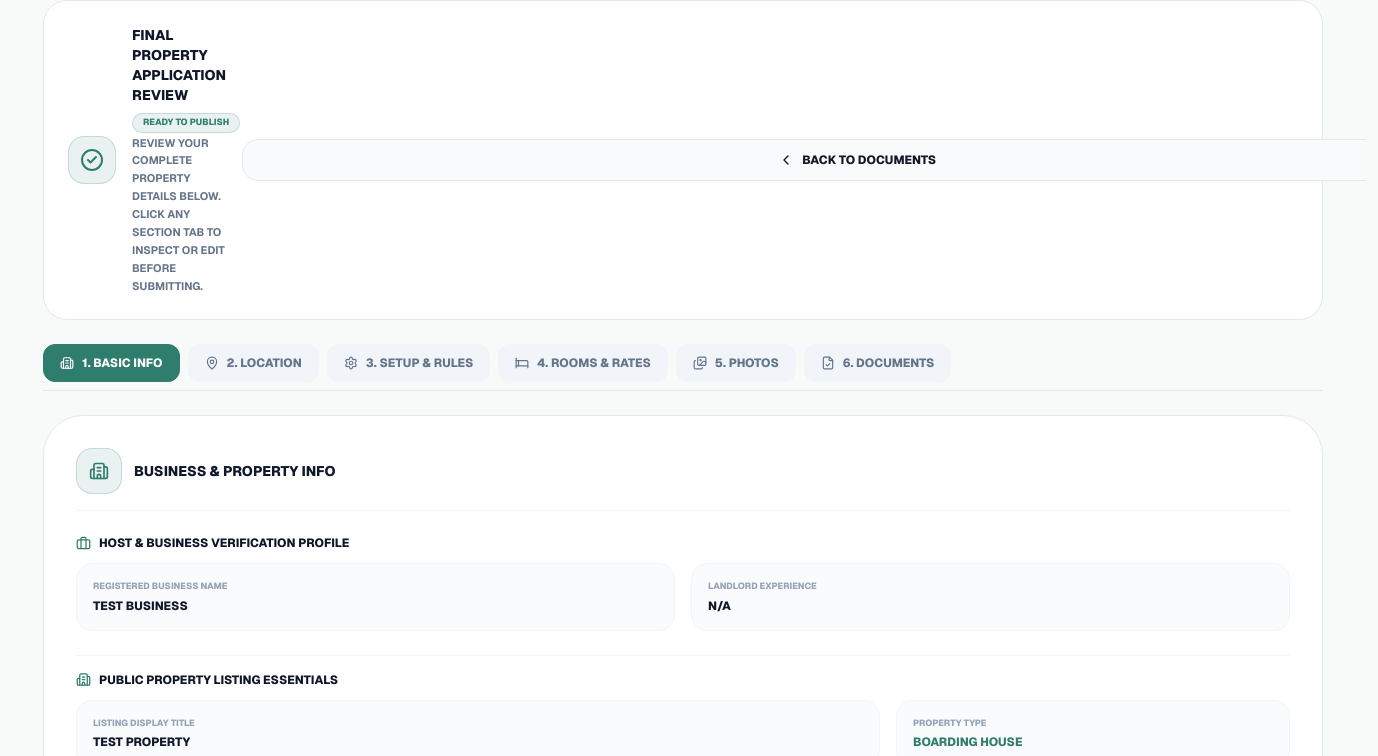
Scenario: ReviewStep › displays form data correctly
Expected: the text "Test Business" is shown, [93,598,188,614]
Expected: the text "Test Property" is shown, [93,734,190,750]
Click the button "2. Location" at (253, 363), box [188,344,319,382]
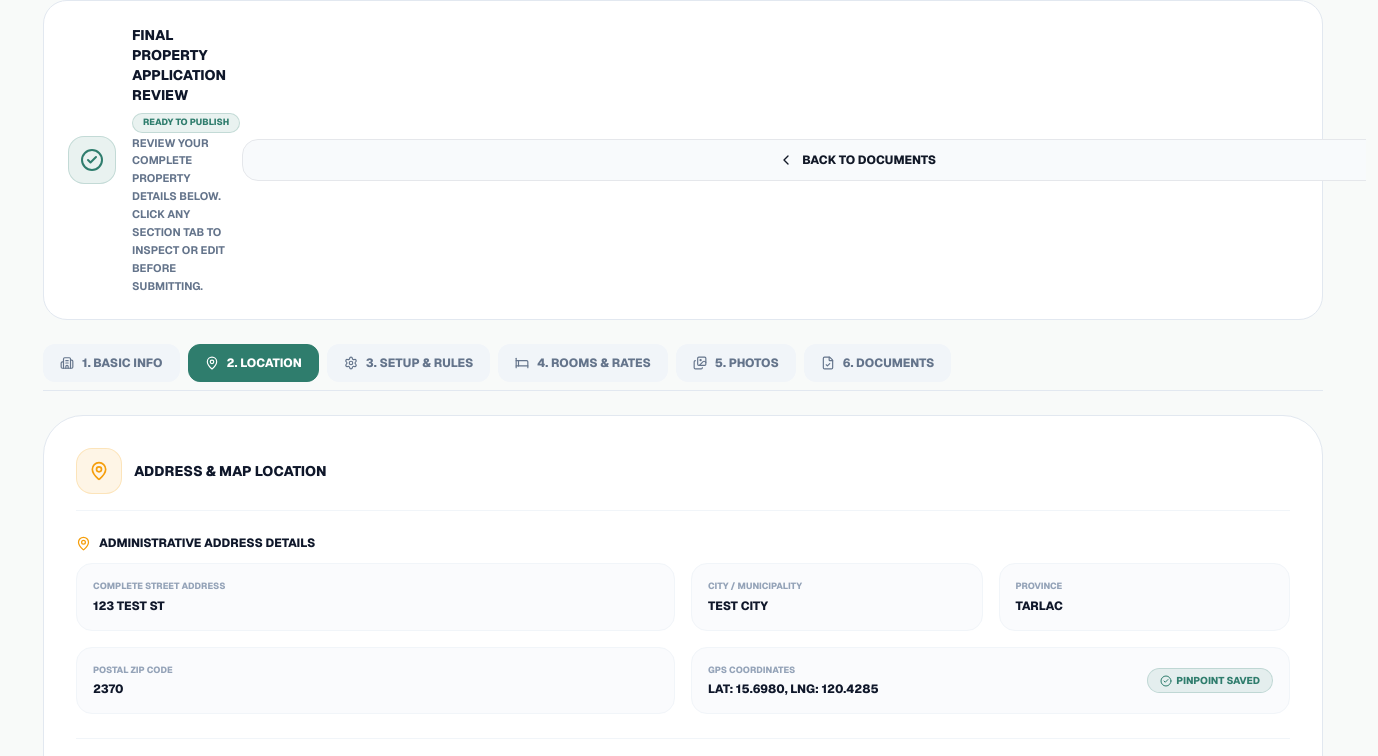
Now the text "123 Test St" is shown, box [93,598,165,614]
